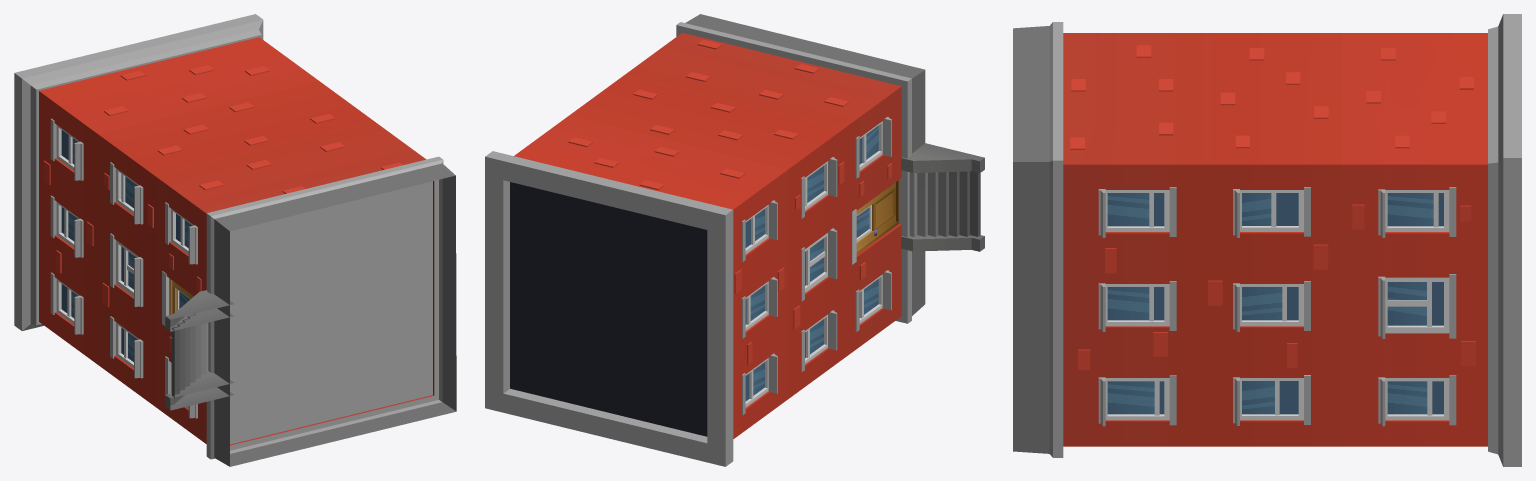
File: Building_2_4_A.fbx
3 views of the same model, side by side, from view 1: azimuth 30°, elevation 25°; view 2: azimuth 150°, elevation 25°; view 3: azimuth 270°, elevation 25° (orthographic). The views are drawn at different scales.
Parts seen in each view (by area): view 1: Building_2_4_A; view 2: Building_2_4_A; view 3: Building_2_4_A.
Boxes of the visible parts, x1,y1,x2,y2 form: Building_2_4_A: (14, 14, 456, 466); Building_2_4_A: (485, 14, 984, 466); Building_2_4_A: (1013, 14, 1521, 466).
Size of the model in its own units: 754 by 620 by 926.
